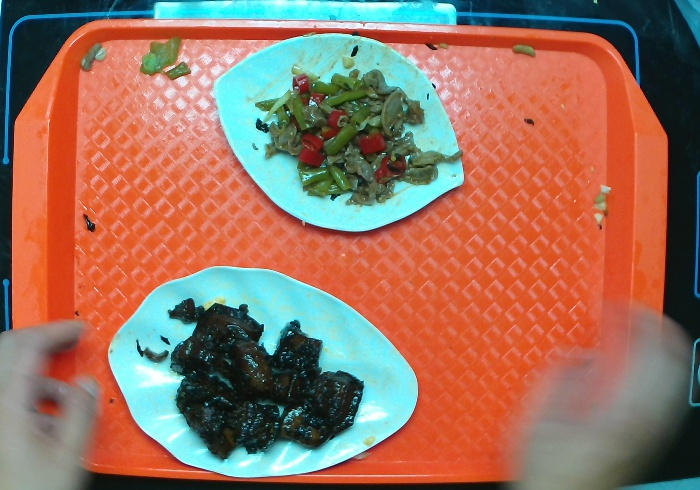RJxy-Bai_Ye_Pan: (103, 262, 420, 476)
RJxy-Da_Du_Pan: (209, 30, 470, 234)
